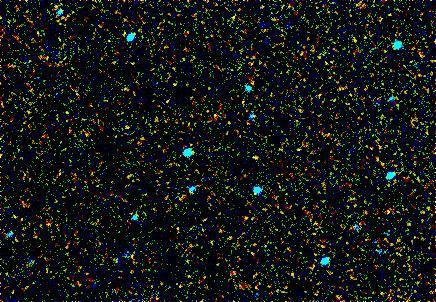star: (242, 147, 272, 177)
